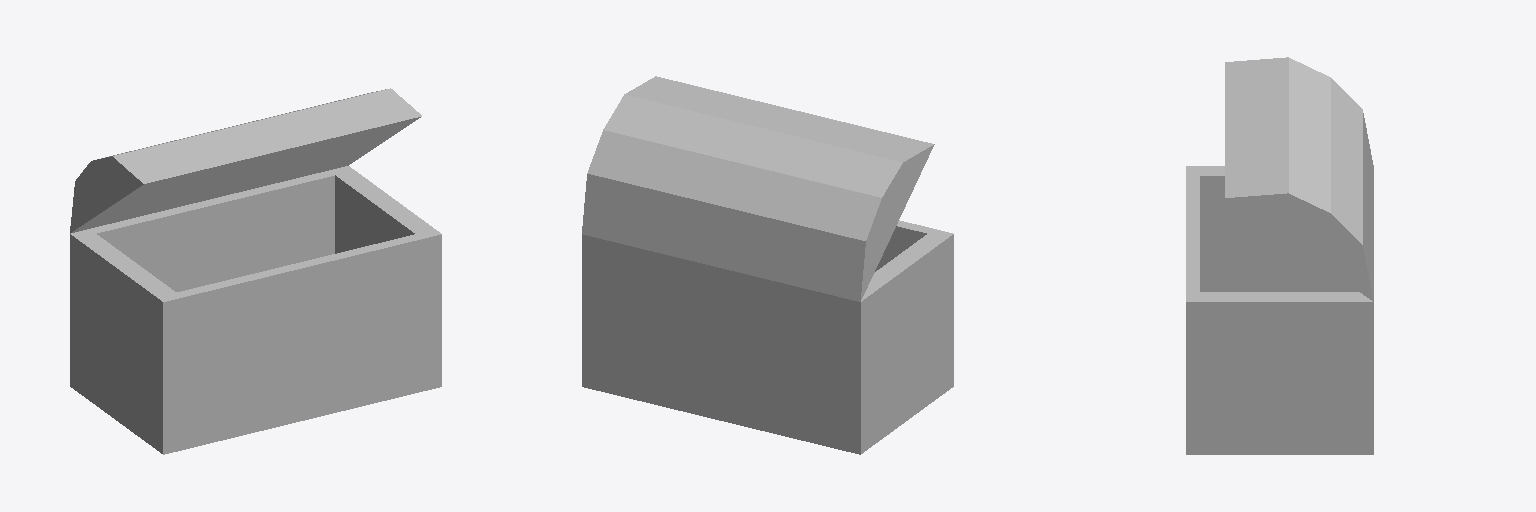
Rendered from chest_002.obj.
3 renders of one model, left to right at view 1: azimuth 30°, elevation 25°; view 2: azimuth 150°, elevation 25°; view 3: azimuth 270°, elevation 25°, orthographic.
Visible parts, largest first — view 1: chest_002_Cube.008; view 2: chest_002_Cube.008; view 3: chest_002_Cube.008.
Part boxes in pixels (x1,y1,x2,y2): chest_002_Cube.008: (70, 88, 441, 454); chest_002_Cube.008: (582, 76, 953, 454); chest_002_Cube.008: (1186, 57, 1373, 454).
Size of the model in its own units: 1.31 by 1.17 by 0.763.